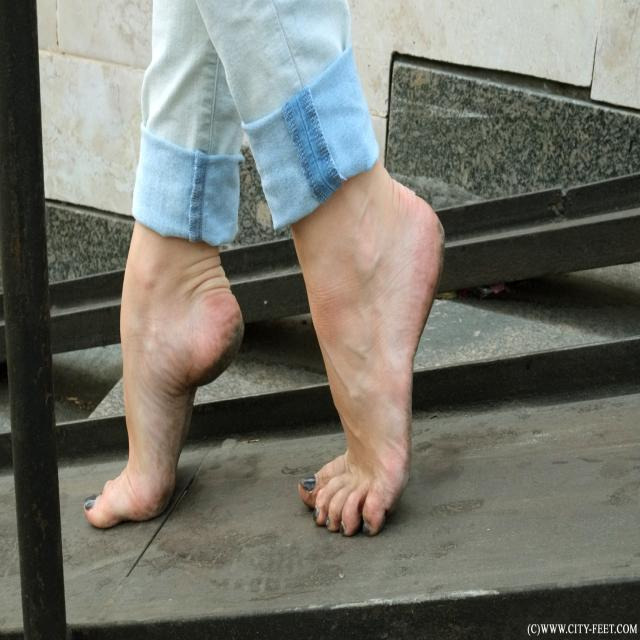Barefoots: (298, 180, 446, 536), (83, 267, 244, 529)
